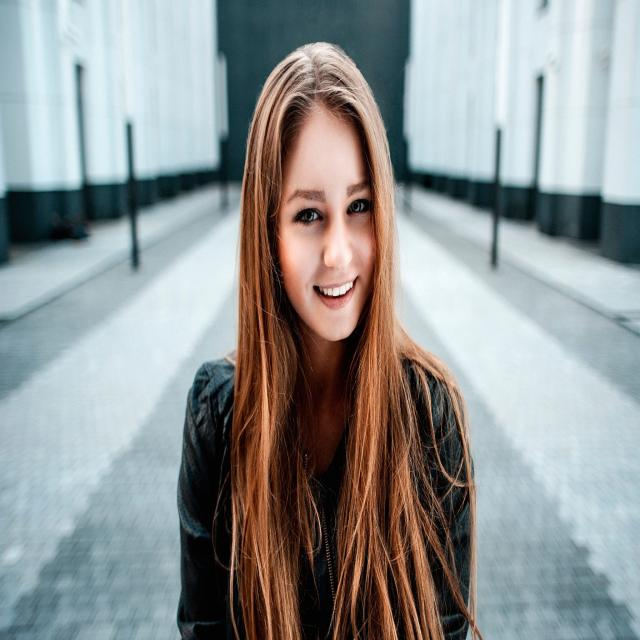mobile_phonerotation: (177, 40, 482, 637)
